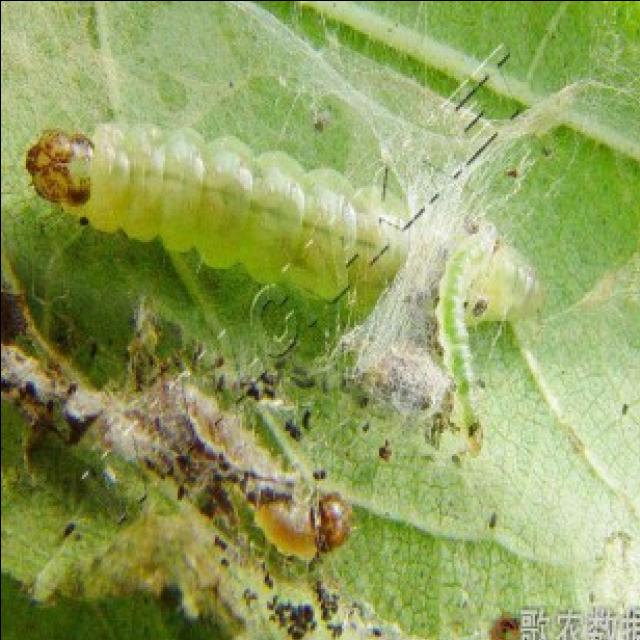rice leaf roller: (0, 281, 349, 640), (23, 123, 399, 297)
